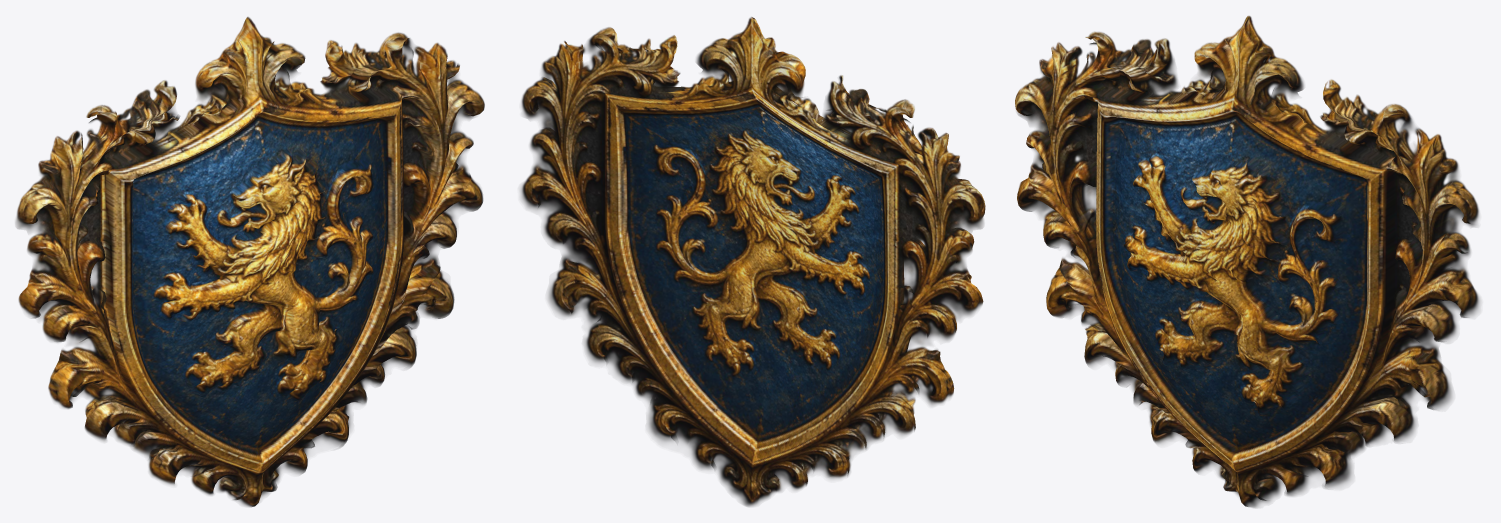
The model's file is brasao_leao.glb.
3 renders of one model, left to right at view 1: azimuth 30°, elevation 25°; view 2: azimuth 150°, elevation 25°; view 3: azimuth 330°, elevation 25°, orthographic.
Parts seen in each view (by area): view 1: tmp72ypdju4.ply; view 2: tmp72ypdju4.ply; view 3: tmp72ypdju4.ply.
Boxes of the visible parts, x1=… form: tmp72ypdju4.ply: x1=15, y1=17, x2=484, y2=507; tmp72ypdju4.ply: x1=520, y1=17, x2=985, y2=506; tmp72ypdju4.ply: x1=1015, y1=16, x2=1479, y2=507.
Size of the model in its own units: 1.96 by 1.96 by 0.2241.
Materials: 1 (1 with a texture image).
